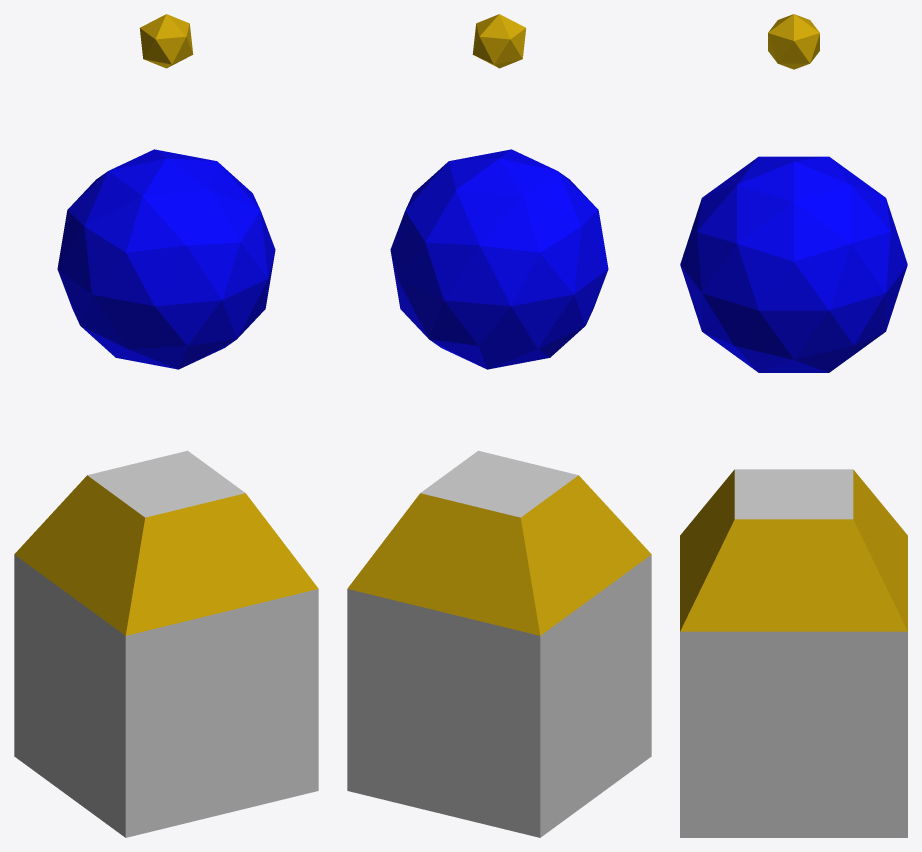
Rendered from ultracomplex.obj.
The picture shows the model from 3 angles, left to right: view 1: azimuth 30°, elevation 25°; view 2: azimuth 150°, elevation 25°; view 3: azimuth 270°, elevation 25°; orthographic projection. The views are drawn at different scales.
Parts seen in each view (by area): view 1: Cube, Icosphere; view 2: Cube, Icosphere; view 3: Cube, Icosphere.
Boxes of the visible parts, x1=… form: Cube: x1=14, y1=450, x2=318, y2=837; Icosphere: x1=57, y1=14, x2=275, y2=369; Cube: x1=347, y1=450, x2=651, y2=837; Icosphere: x1=390, y1=14, x2=608, y2=369; Cube: x1=680, y1=469, x2=907, y2=837; Icosphere: x1=680, y1=14, x2=907, y2=372.
Bounding box in the file's own units: 2 × 7.52 × 2.
